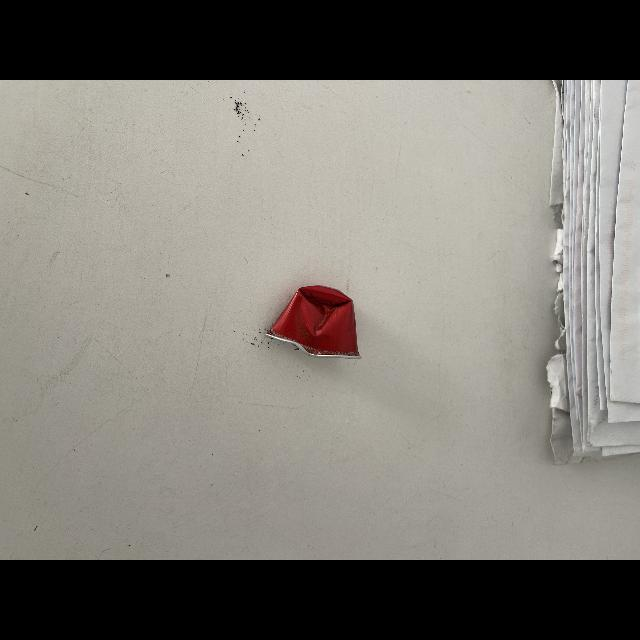damaged_capsule: (259, 279, 379, 369)
